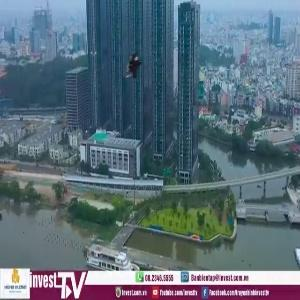drone: (116, 48, 154, 86)
